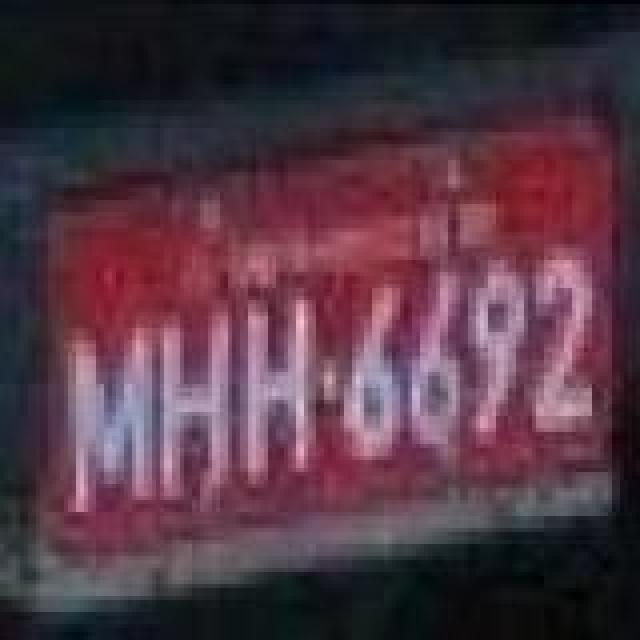2: (534, 248, 602, 432)
6: (342, 274, 410, 466), (404, 266, 468, 458)
9: (462, 260, 530, 448)
H: (156, 308, 236, 512), (240, 292, 312, 496)
M: (66, 320, 158, 520)
